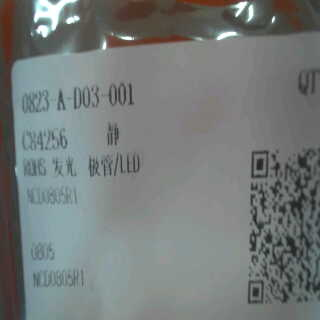LED: (49, 155, 145, 178)
